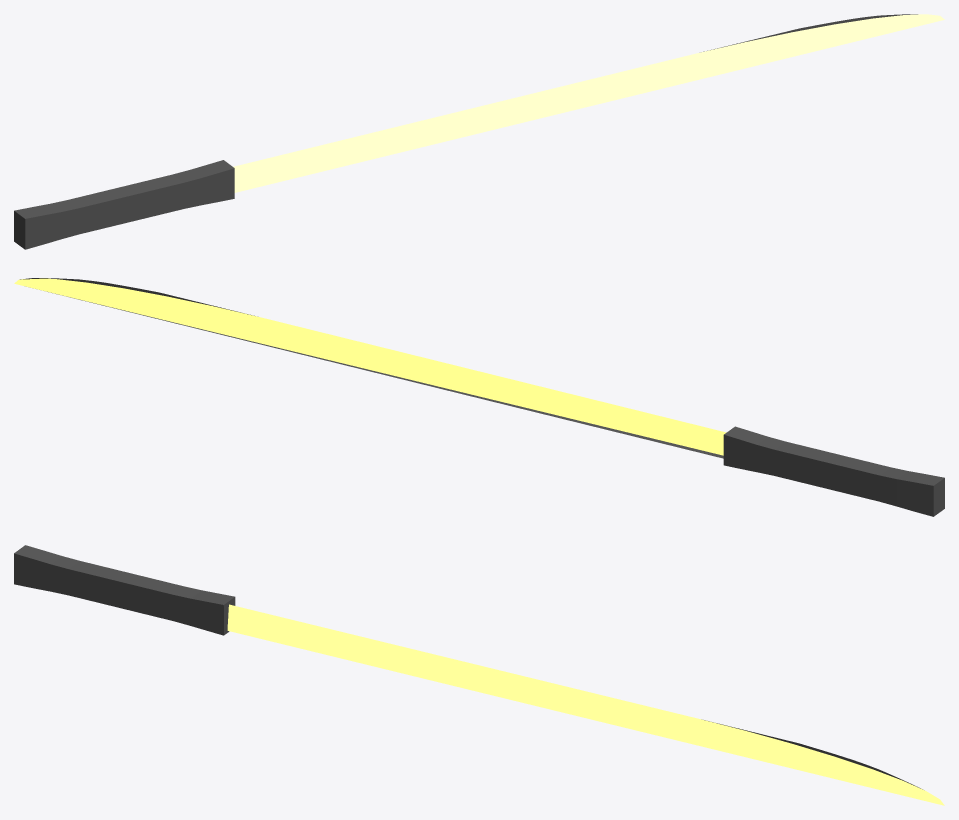
File: KOGETSU.glb
The picture shows the model from 3 angles, top to bottom: view 1: azimuth 30°, elevation 25°; view 2: azimuth 150°, elevation 25°; view 3: azimuth 330°, elevation 25°; orthographic projection.
Visible parts, largest first — view 1: Cube; view 2: Cube; view 3: Cube.
Part boxes in pixels (x1,y1,x2,y2): Cube: (14,14,944,249); Cube: (14,278,944,516); Cube: (14,545,944,805).
Bounding box in the file's own units: 1.11 × 0.0356 × 0.0243.
